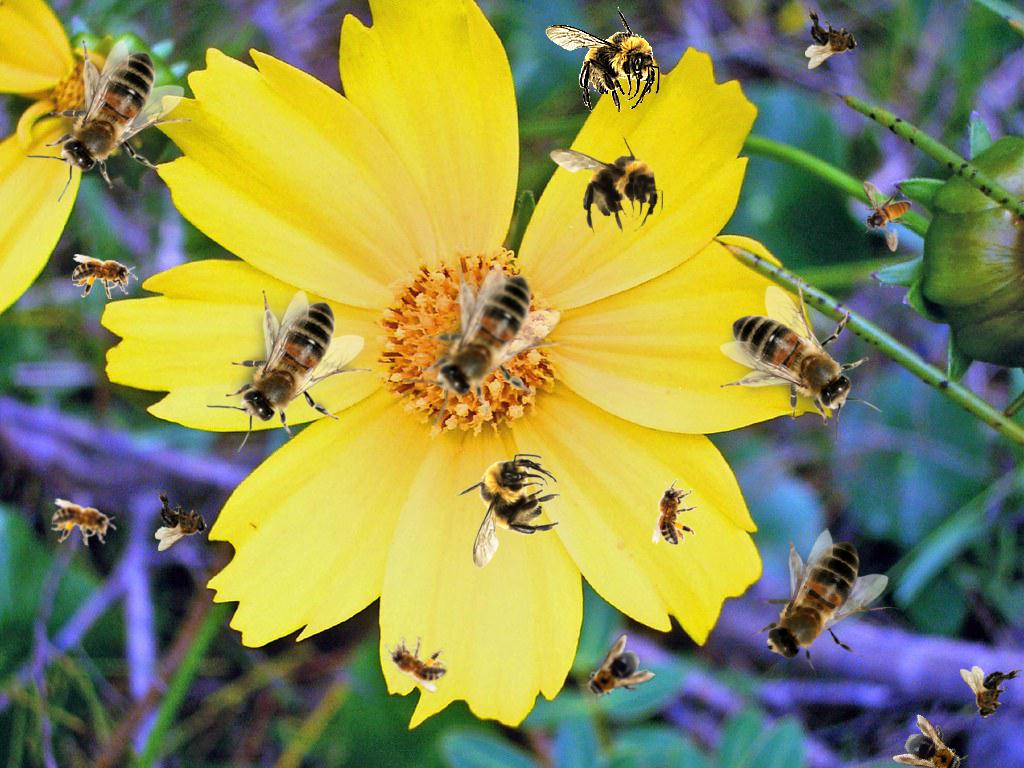Bee: (26, 40, 193, 202), (720, 277, 882, 444), (402, 264, 569, 426), (206, 290, 373, 452), (731, 528, 898, 690), (545, 6, 660, 113), (548, 129, 663, 236), (454, 454, 561, 569), (572, 633, 658, 717), (375, 626, 455, 695), (891, 713, 977, 768), (48, 497, 120, 550), (862, 181, 912, 252), (960, 666, 1022, 719), (155, 489, 208, 551), (805, 7, 858, 69), (72, 254, 138, 299), (652, 479, 697, 545)
